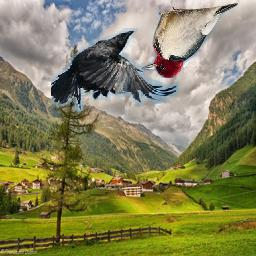Crow: (51, 29, 179, 112)
Woodpecker: (142, 4, 239, 79)
